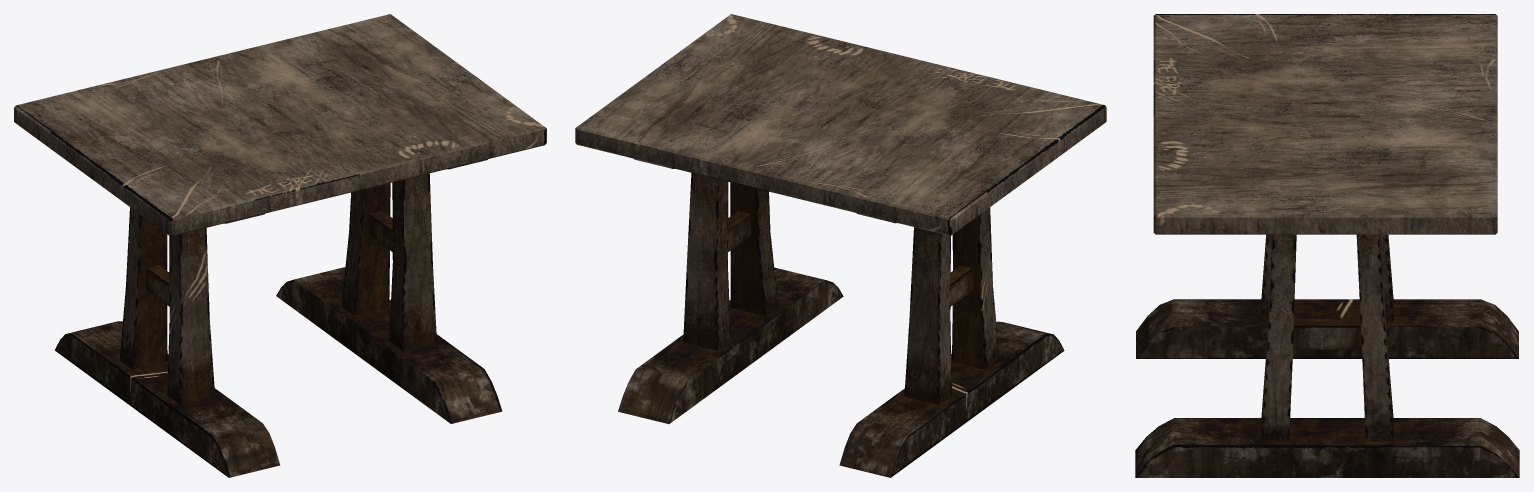
File: simple_table.fbx
3 views of the same model, side by side, from view 1: azimuth 30°, elevation 25°; view 2: azimuth 150°, elevation 25°; view 3: azimuth 270°, elevation 25° (orthographic). The views are drawn at different scales.
Visible parts, largest first — view 1: tablesimple; view 2: tablesimple; view 3: tablesimple.
Boxes of the visible parts, x1,y1,x2,y2 form: tablesimple: (14,14,546,477); tablesimple: (575,14,1106,477); tablesimple: (1135,14,1519,477).
Size of the model in its own units: 1.13 by 0.9051 by 0.7558.
1 material, 1 textured.
